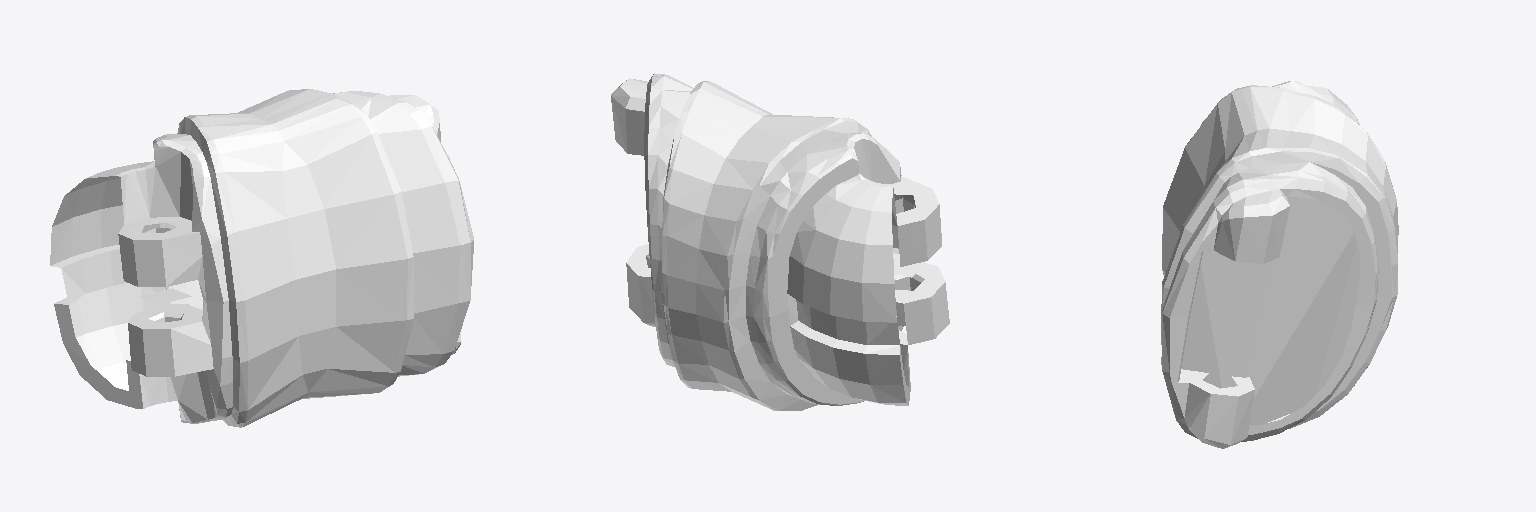
3 renders of one model, left to right at view 1: azimuth 30°, elevation 25°; view 2: azimuth 150°, elevation 25°; view 3: azimuth 270°, elevation 25°, orthographic.
Visible parts, largest first — view 1: RFinger11_RPhalax_1; view 2: RFinger11_RPhalax_1; view 3: RFinger11_RPhalax_1.
Part boxes in pixels (left/top/right/bottom): RFinger11_RPhalax_1: left=50, top=89, right=473, bottom=427; RFinger11_RPhalax_1: left=611, top=73, right=949, bottom=410; RFinger11_RPhalax_1: left=1161, top=81, right=1398, bottom=448.
Bounding box in the file's own units: 0.1938 × 0.16 × 0.1192.
Materials: 1 (1 with a texture image).